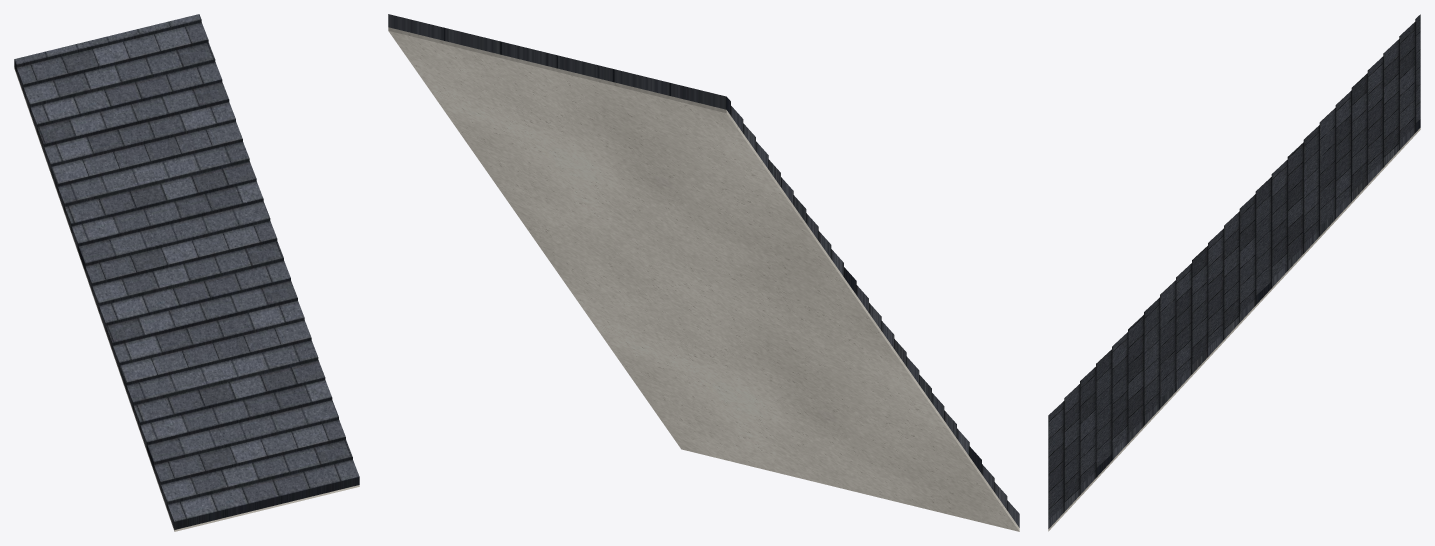
The model's file is roof_valley.glb.
3 renders of one model, left to right at view 1: azimuth 30°, elevation 25°; view 2: azimuth 150°, elevation 25°; view 3: azimuth 270°, elevation 25°, orthographic. The views are drawn at different scales.
Parts seen in each view (by area): view 1: roof_valley_shingles, roof_valley_plaster; view 2: roof_valley_plaster, roof_valley_shingles; view 3: roof_valley_shingles, roof_valley_plaster.
Part boxes in pixels (x1=…): roof_valley_shingles: x1=14, y1=14, x2=359, y2=529; roof_valley_plaster: x1=14, y1=67, x2=359, y2=531; roof_valley_plaster: x1=388, y1=27, x2=1019, y2=531; roof_valley_shingles: x1=388, y1=14, x2=1019, y2=527; roof_valley_shingles: x1=1048, y1=14, x2=1420, y2=528; roof_valley_plaster: x1=1048, y1=128, x2=1420, y2=531.
Bounding box in the file's own units: 2 × 3.67 × 3.
2 materials, 2 textured.
